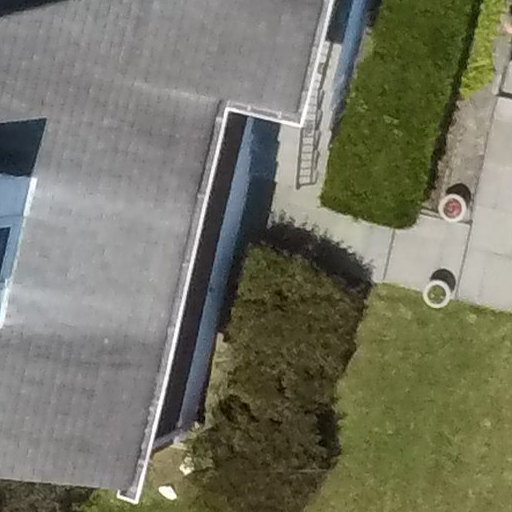container: (432, 190, 471, 228), (417, 278, 456, 314)
